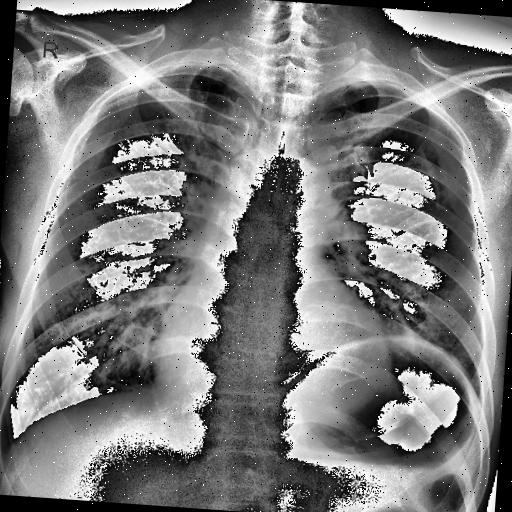0- Aortic enlargement: (264, 155, 332, 235)
13- Pulmonary fibrosis: (409, 145, 446, 210), (408, 151, 445, 209), (416, 148, 446, 209)
9- Other lesion: (283, 314, 485, 410), (362, 323, 488, 399)
